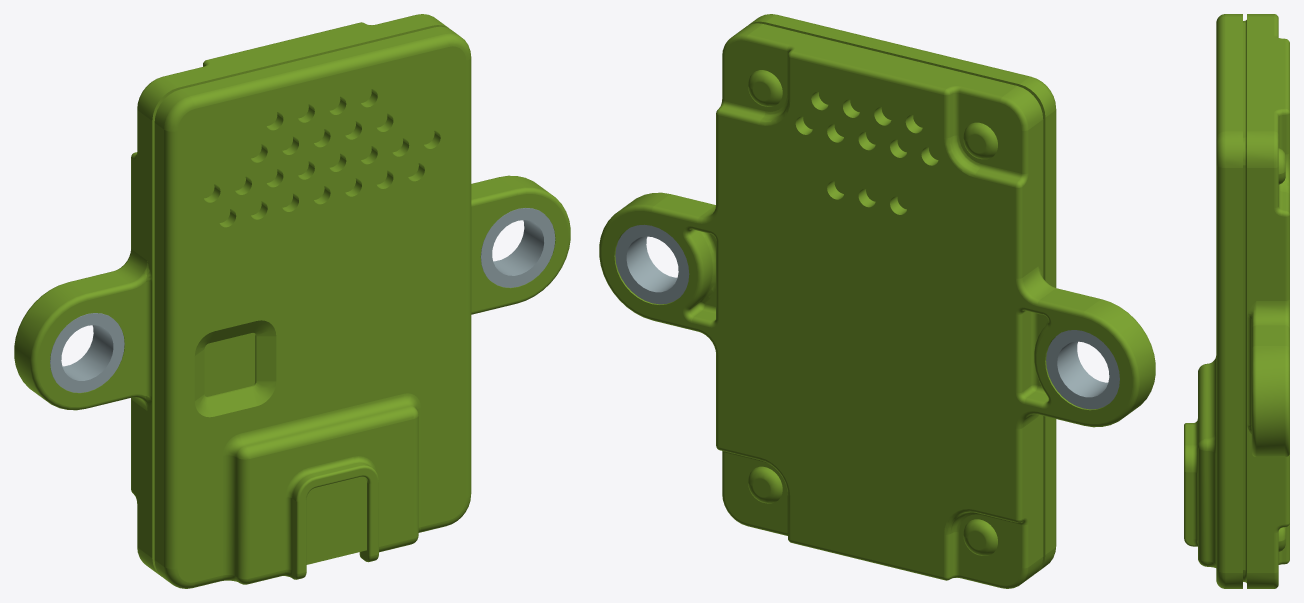
Rendered from cellgaurd.glb.
3 views of the same model, side by side, from view 1: azimuth 30°, elevation 25°; view 2: azimuth 150°, elevation 25°; view 3: azimuth 270°, elevation 25° (orthographic). The views are drawn at different scales.
Visible parts, largest first — view 1: empty_4, empty_2, empty_3; view 2: empty_4, empty_3, empty_2; view 3: empty_4.
Boxes of the visible parts, x1=… form: empty_4: x1=14, y1=14, x2=570, y2=588; empty_2: x1=480, y1=208, x2=555, y2=287; empty_3: x1=50, y1=313, x2=124, y2=392; empty_4: x1=599, y1=14, x2=1155, y2=588; empty_3: x1=1046, y1=330, x2=1119, y2=409; empty_2: x1=615, y1=224, x2=689, y2=304; empty_4: x1=1184, y1=14, x2=1289, y2=588.
Size of the model in its own units: 62.65 by 54.5 by 11.5.
